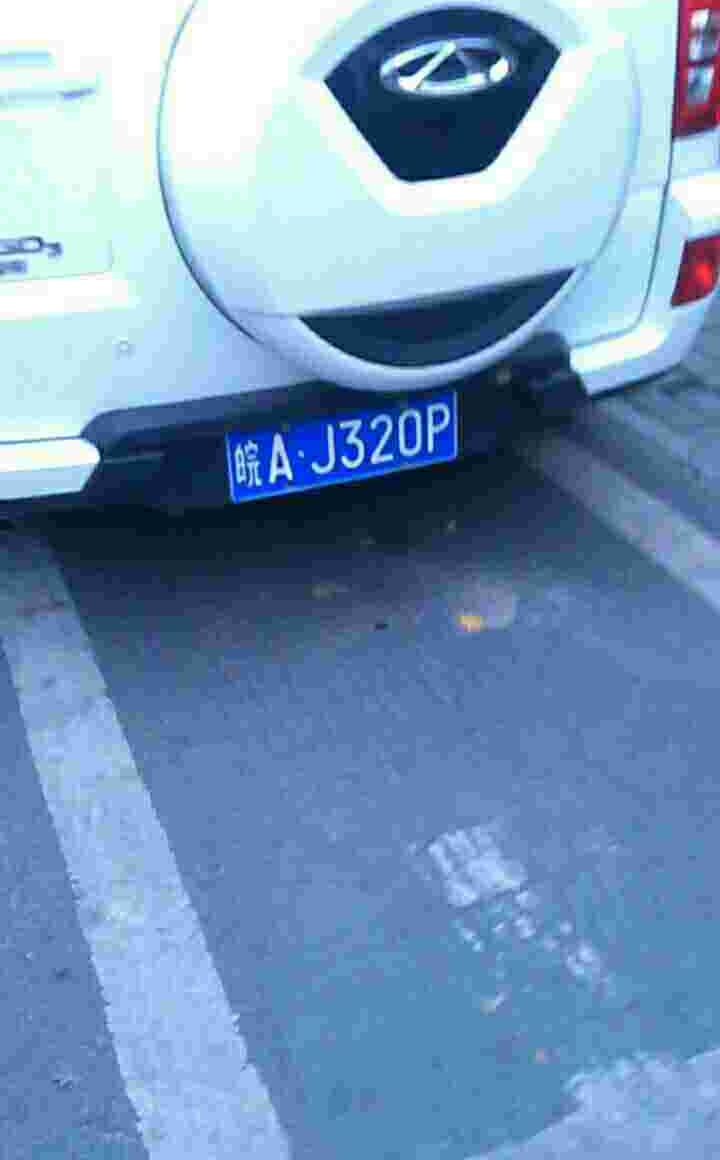license_plate: (227, 393, 469, 507)
